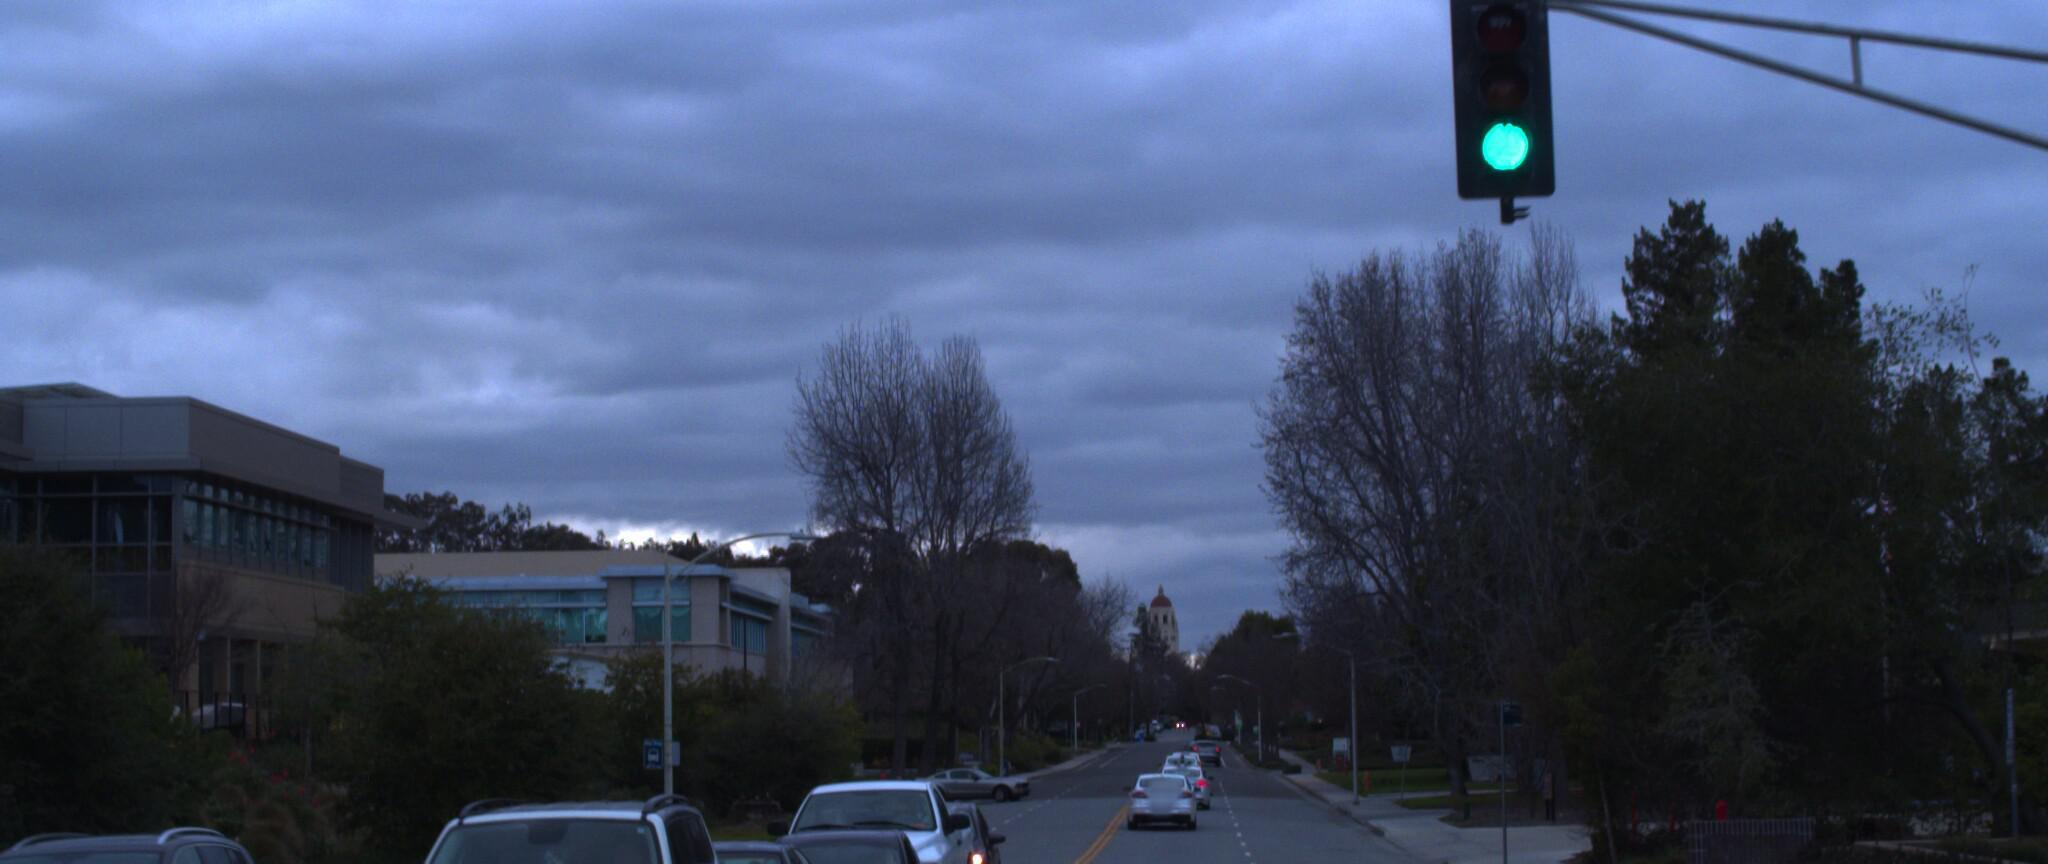car: (315, 807, 764, 864), (752, 784, 974, 864), (858, 807, 993, 864), (708, 834, 946, 864), (0, 842, 313, 864), (554, 847, 856, 864), (1118, 775, 1192, 829)
